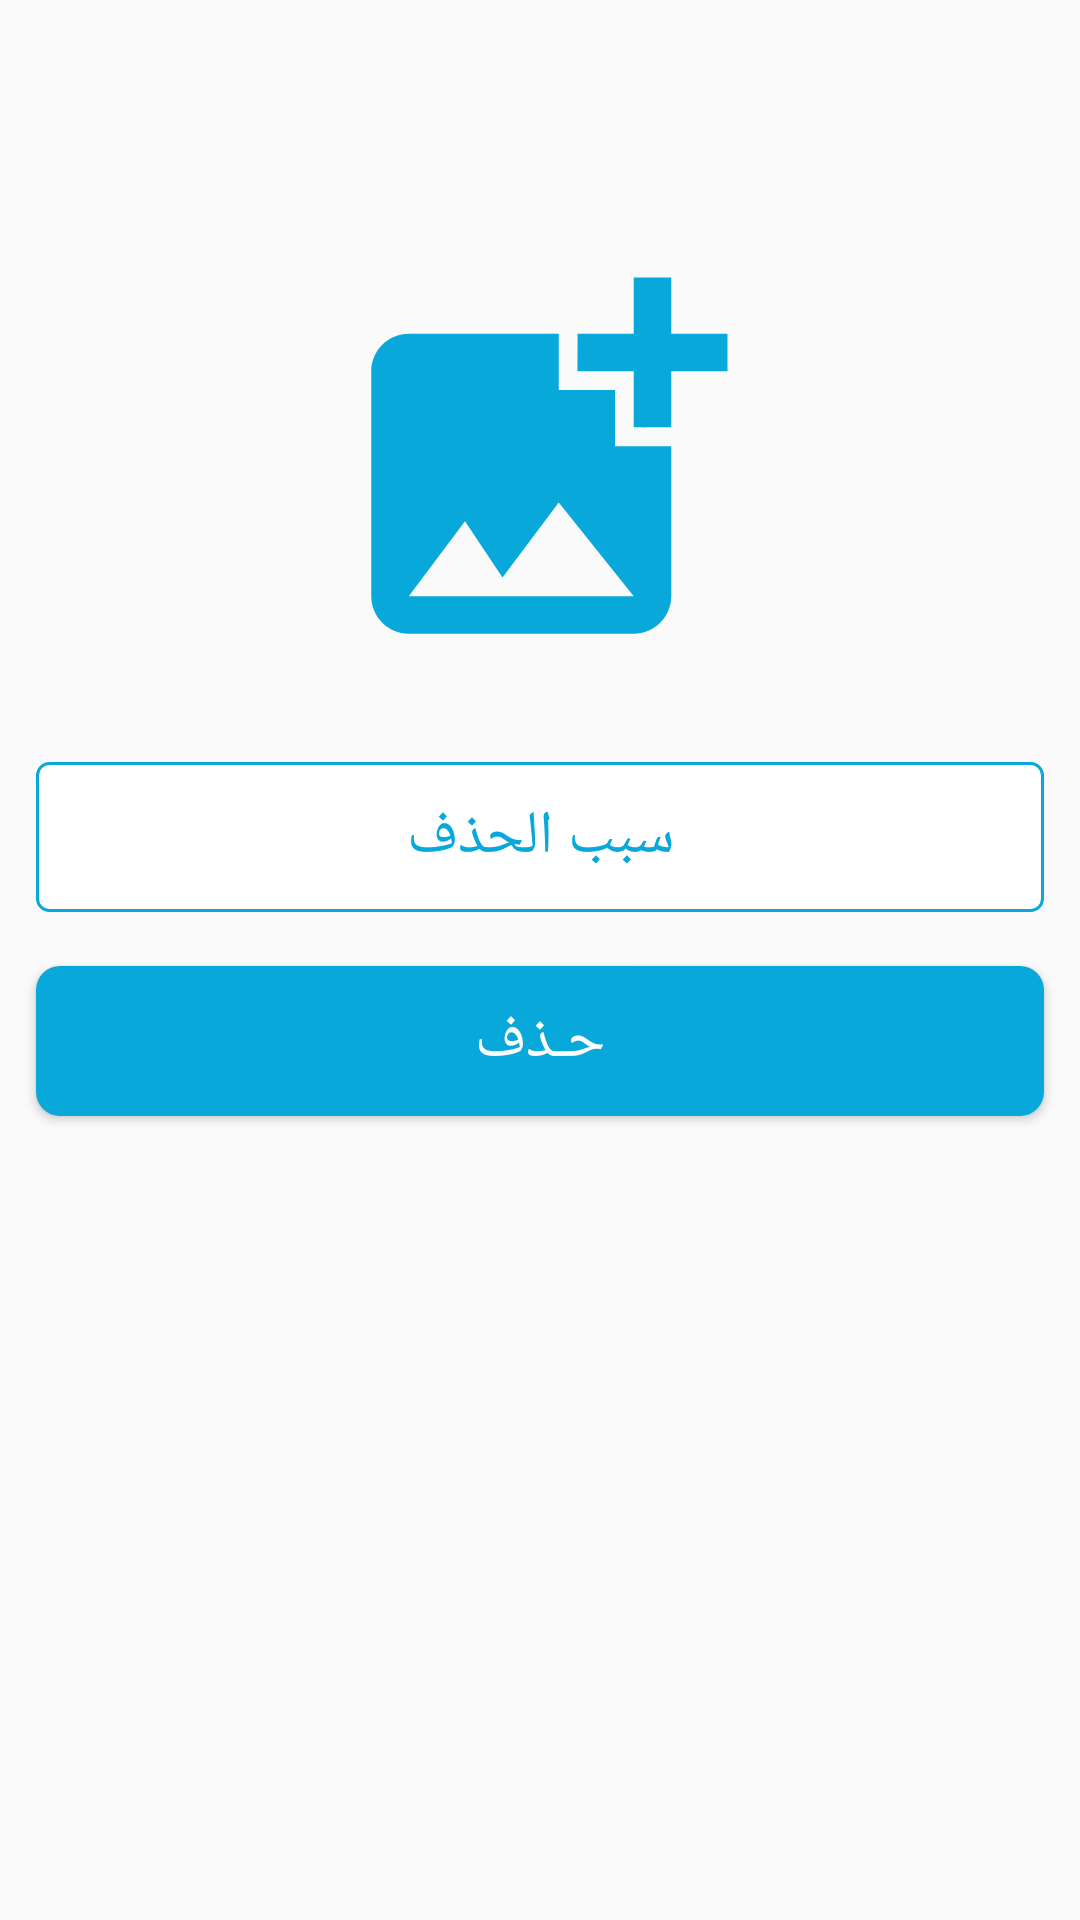

Icon click points for this 1080w x 1920h phone screenshot, format (x,y):
add: (549,455)
